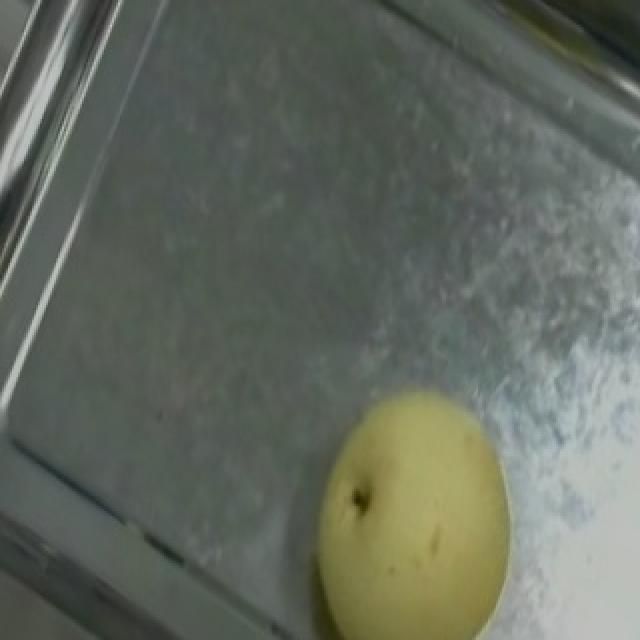Fruit: (254, 357, 544, 640)
